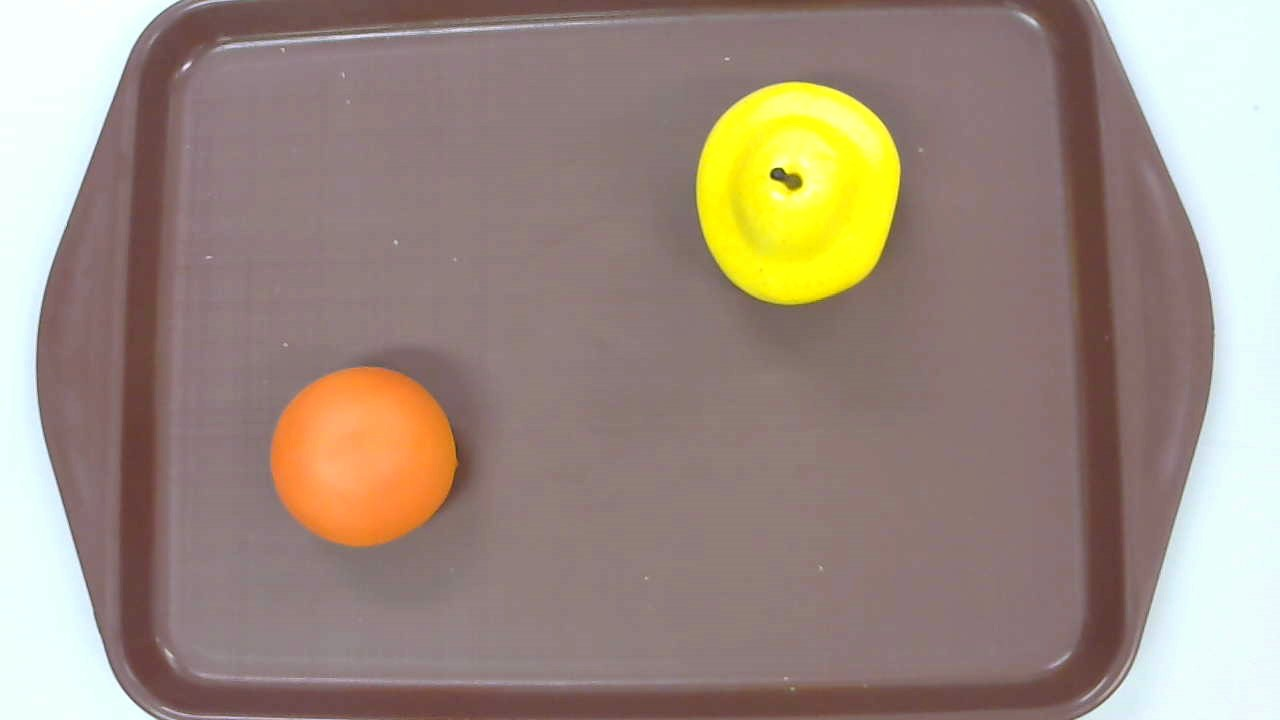bun: (270, 366, 458, 545)
yellow pear: (695, 79, 900, 304)
